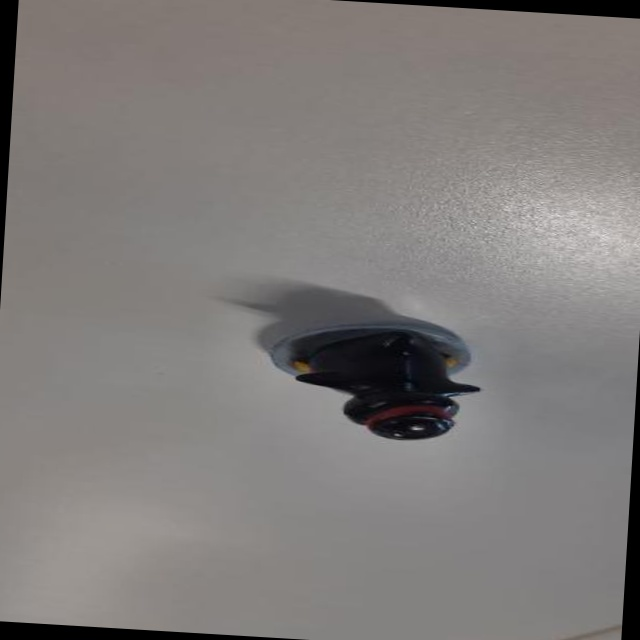Penguin: (260, 309, 484, 449)
